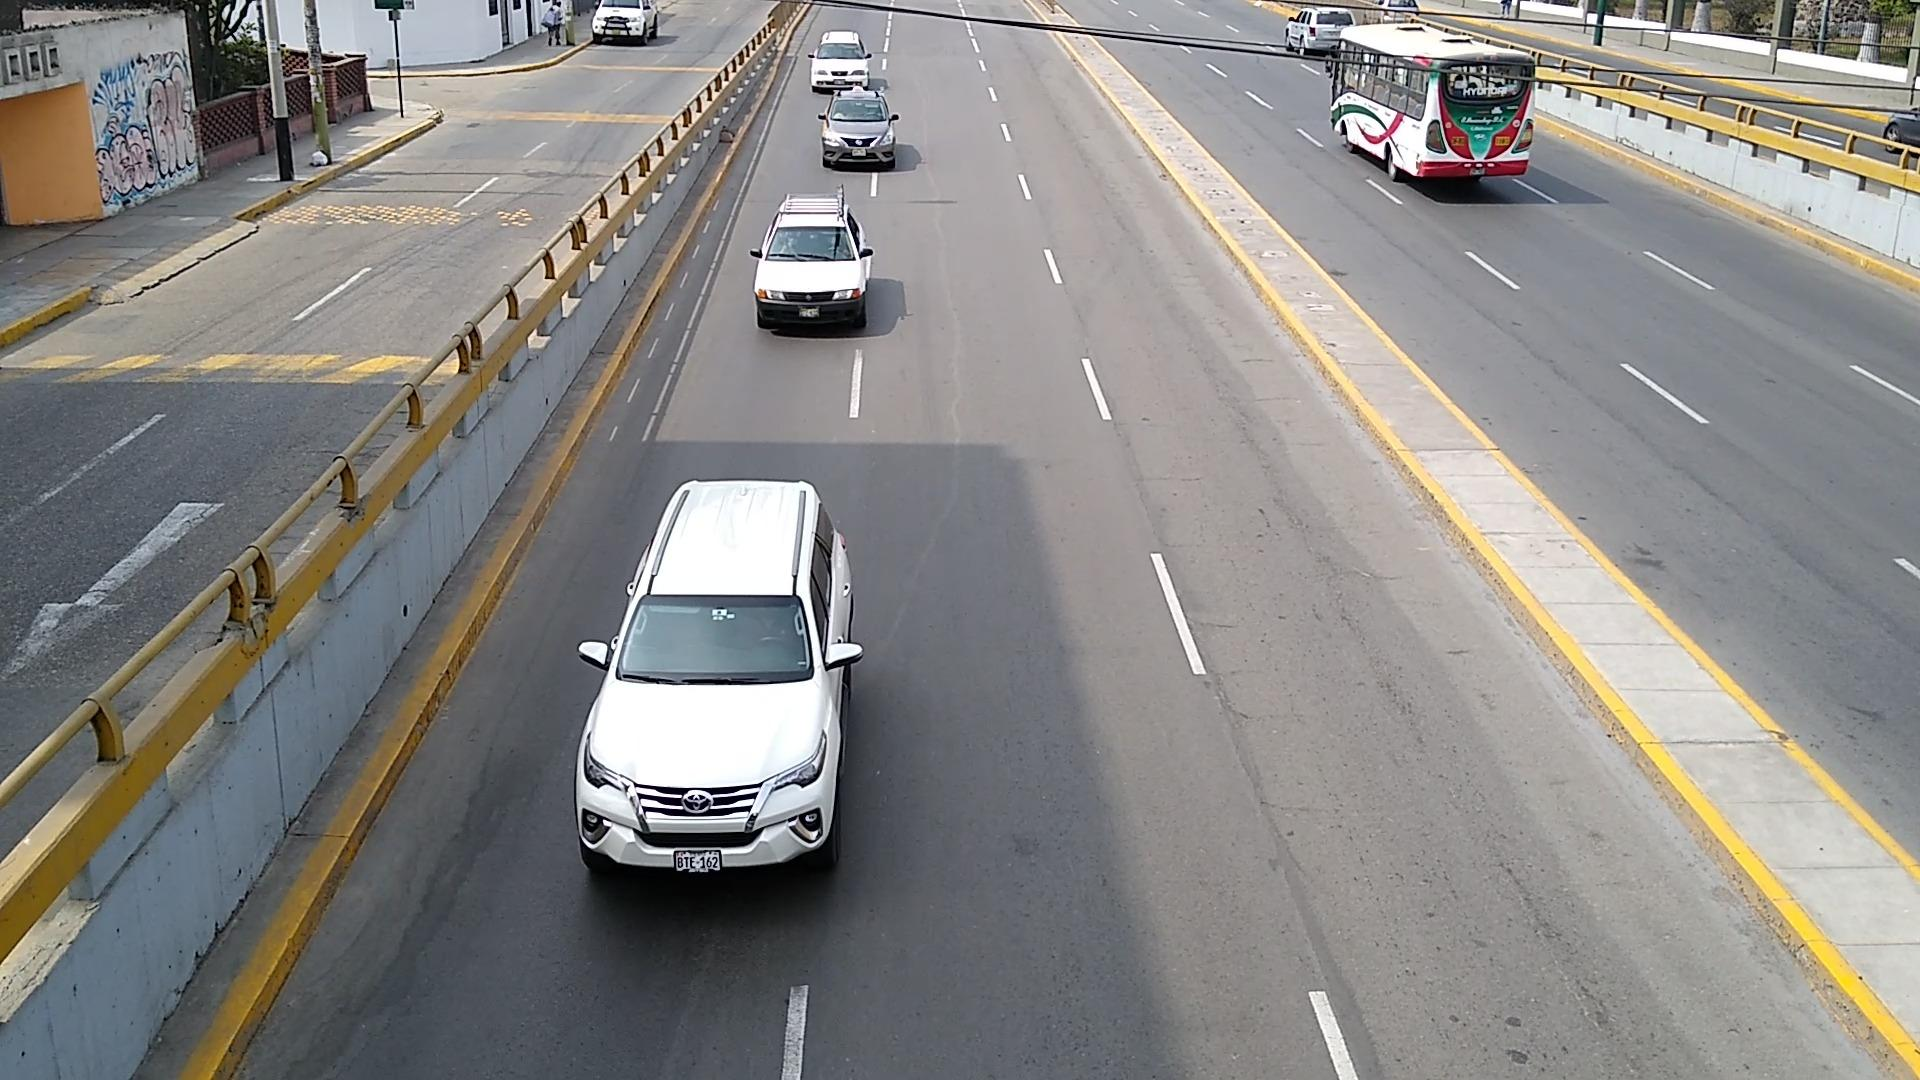bus: (1328, 22, 1538, 177)
car: (574, 480, 862, 872), (750, 191, 874, 330), (822, 90, 897, 167), (592, 0, 657, 45)
